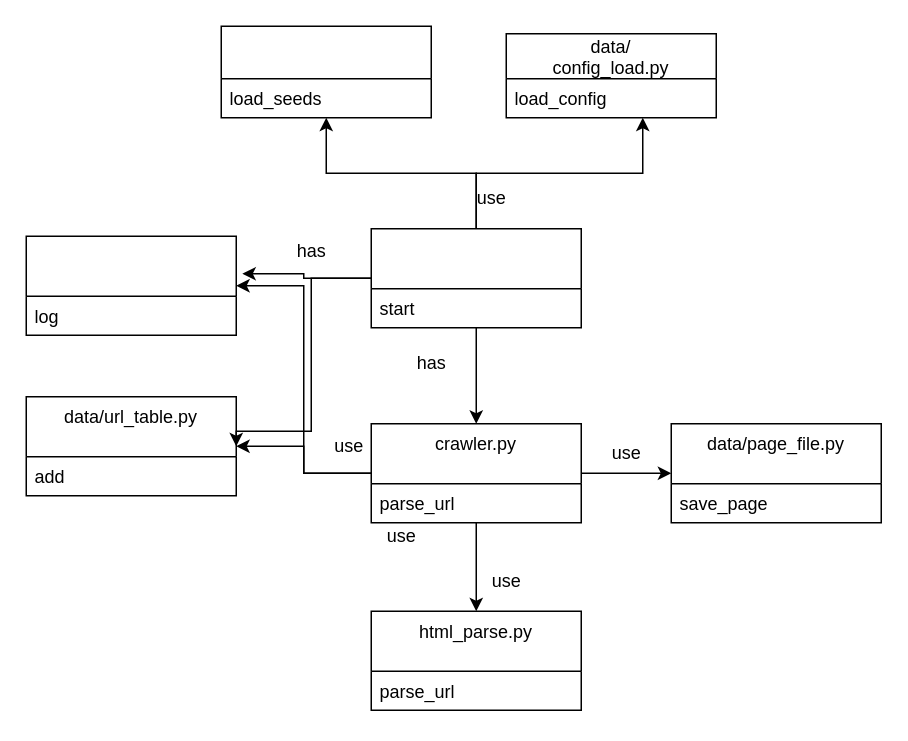
Image size: 908x741. Some labels were removed from this diagram. The box of each missing label's shape, as (x1, y1, x2, y2) in pixels:
data/ url_seeds.py: (220, 25, 431, 118)
log.py: (25, 235, 236, 335)
mini_spider.py: (370, 227, 581, 328)
